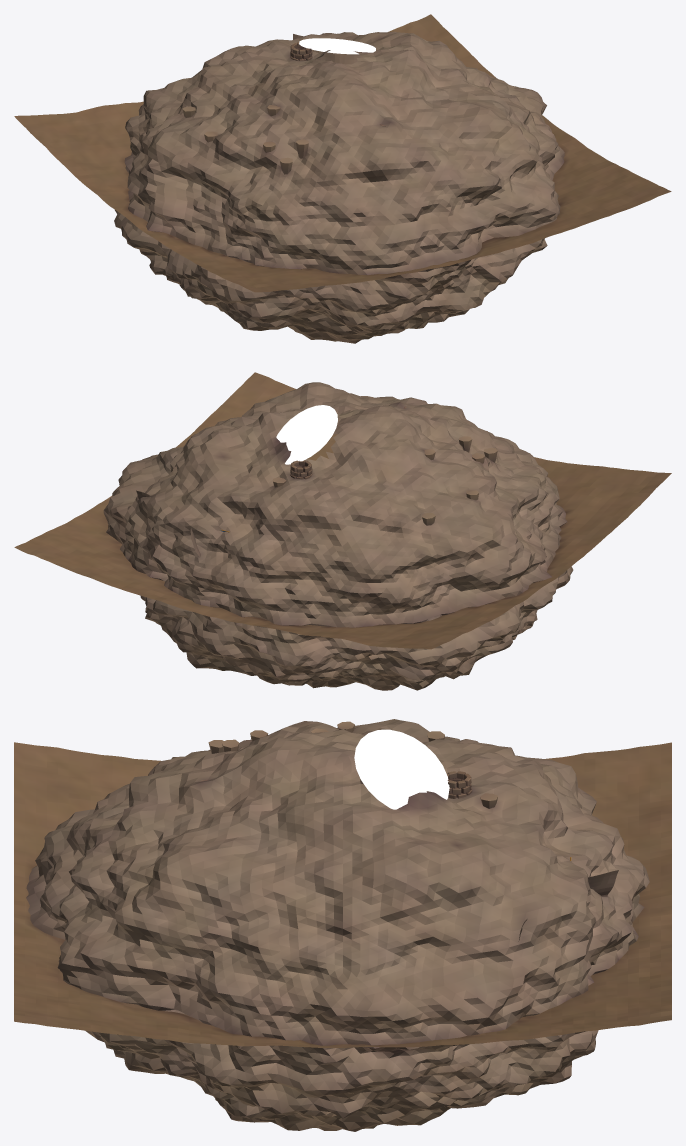
Rendered from hall.glb.
The picture shows the model from 3 angles, top to bottom: view 1: azimuth 30°, elevation 25°; view 2: azimuth 150°, elevation 25°; view 3: azimuth 270°, elevation 25°; orthographic projection. The views are drawn at different scales.
Visible parts, largest first — view 1: hall_paint, hall_glow_sky; view 2: hall_paint, hall_glow_sky; view 3: hall_paint, hall_glow_sky.
Boxes of the visible parts, x1,y1,x2,y2 form: hall_paint: (14, 14, 671, 343); hall_glow_sky: (299, 38, 375, 54); hall_paint: (14, 372, 671, 690); hall_glow_sky: (276, 405, 337, 464); hall_paint: (14, 719, 671, 1131); hall_glow_sky: (354, 729, 449, 809).
Size of the model in its own units: 52 by 31.21 by 52.
